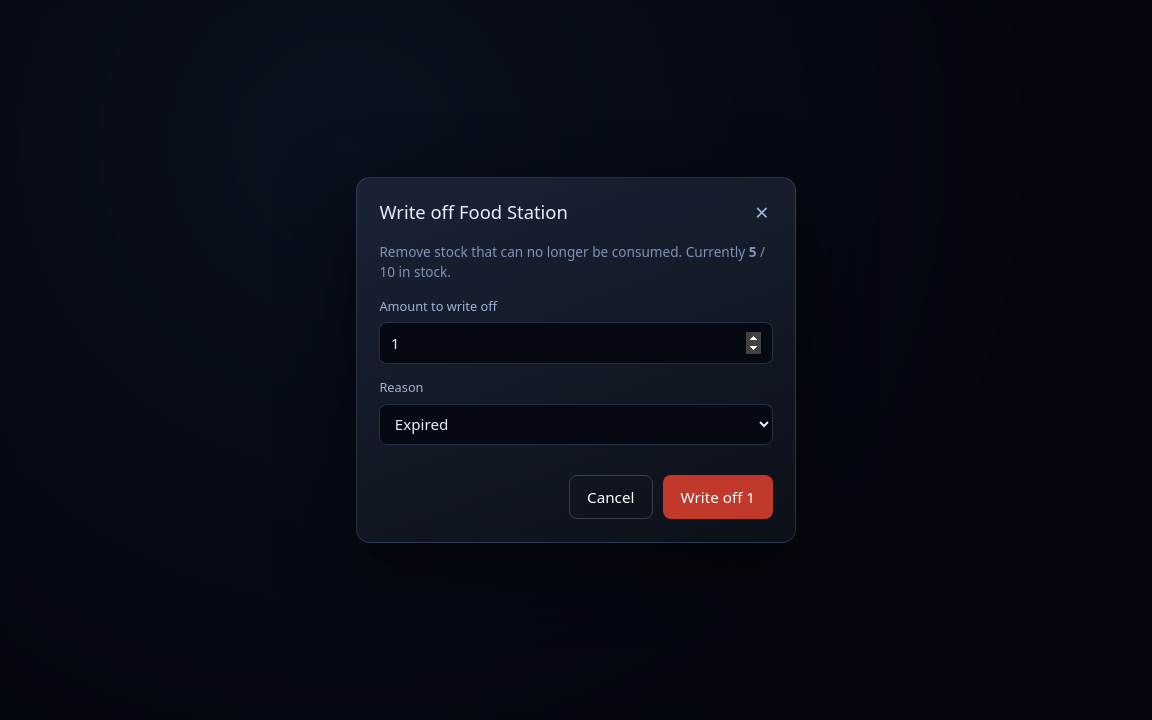
Test case: WriteOffModal amount clamping › keeps an in-range amount unchanged and reflects it on the submit button
Replace the text in the number field labelled "Amount to write off" with "3" at x=576, y=343, box [379, 322, 773, 364]
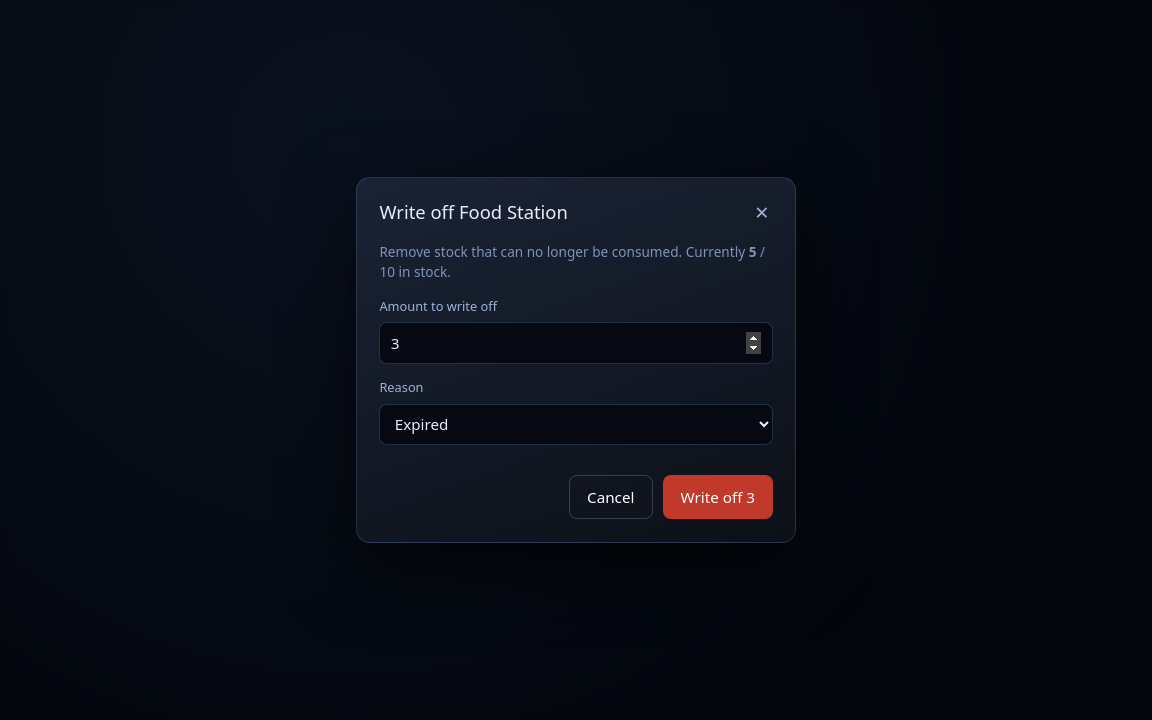
Check: the button "Write off 3" is shown, box [663, 475, 773, 519]
